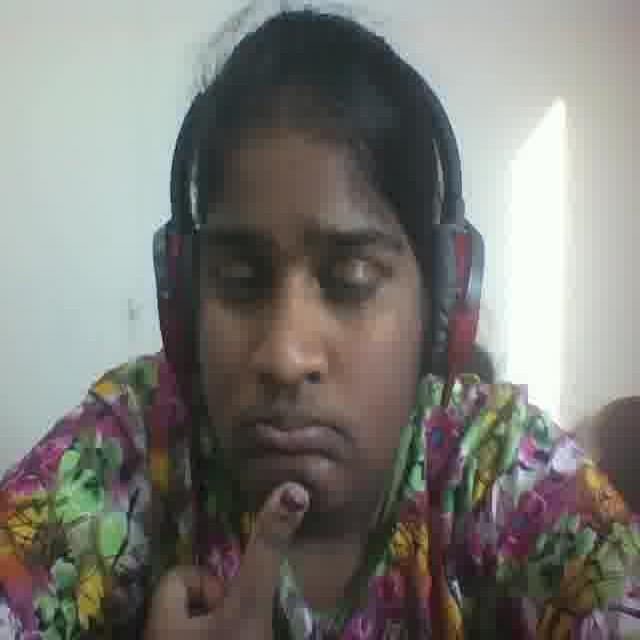Boredom: (175, 133, 420, 538)
